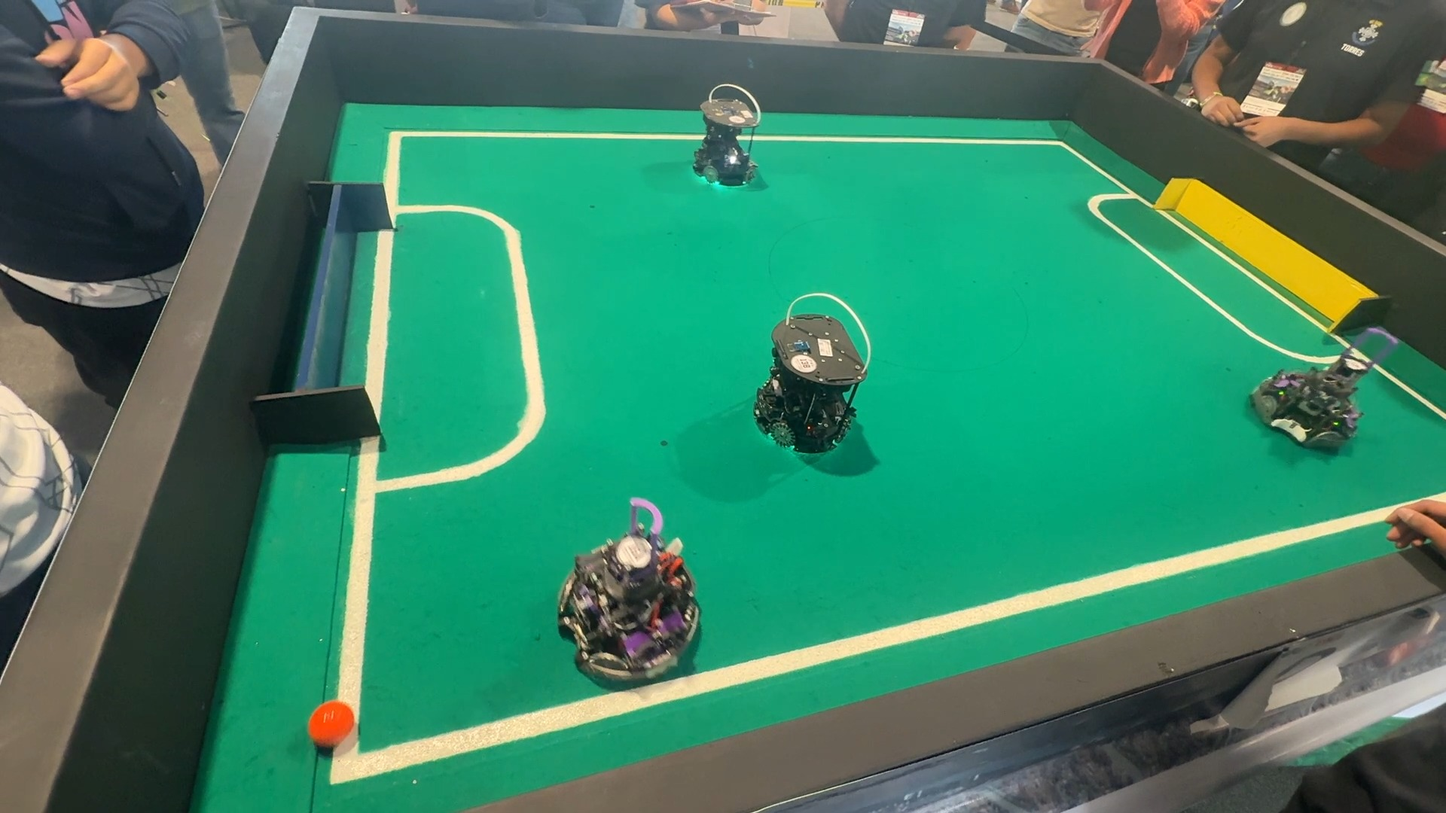Robot: (540, 491, 703, 702), (740, 287, 881, 486), (1230, 348, 1372, 465), (682, 80, 784, 202)
pelota: (309, 703, 364, 746)
